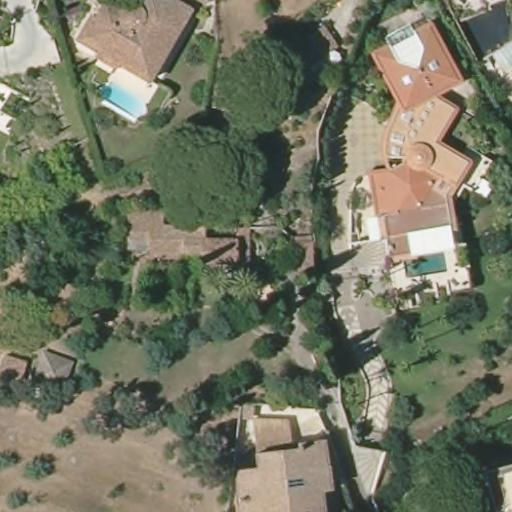pool: (99, 79, 150, 120), (401, 251, 448, 279)
